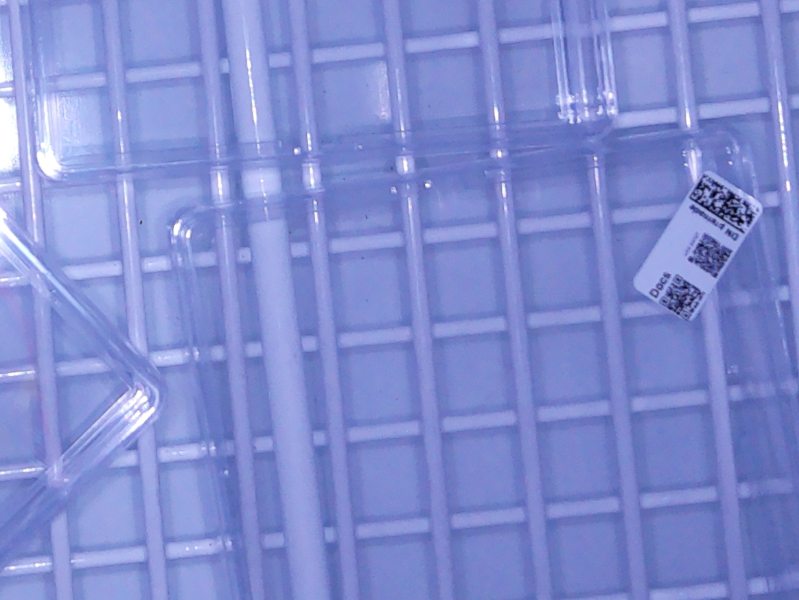plate: (148, 118, 799, 600), (16, 1, 620, 189), (1, 203, 168, 596)
